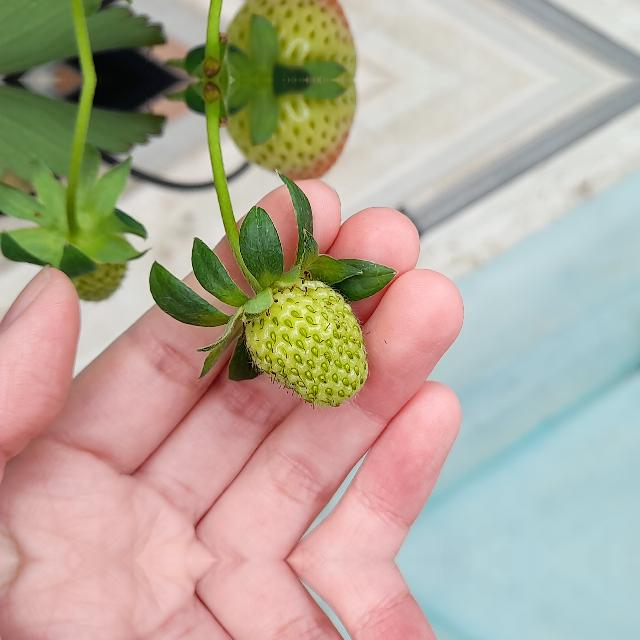Health_25: (245, 278, 368, 408)
